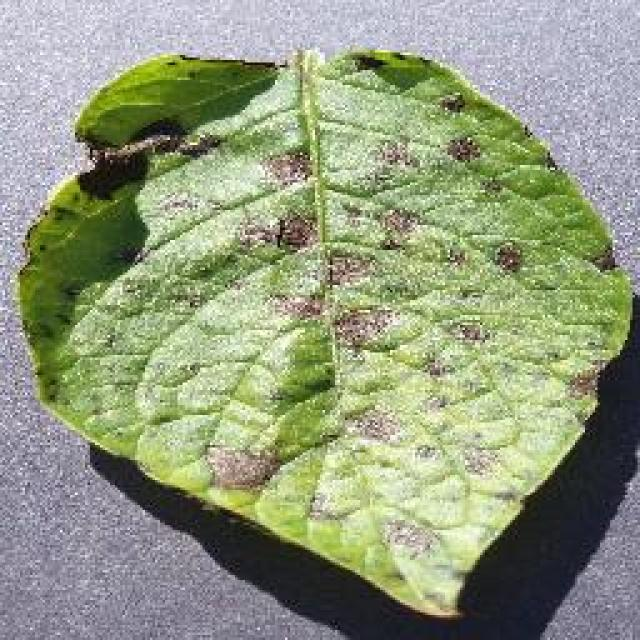Potato___Early_blight: (13, 43, 638, 627)
